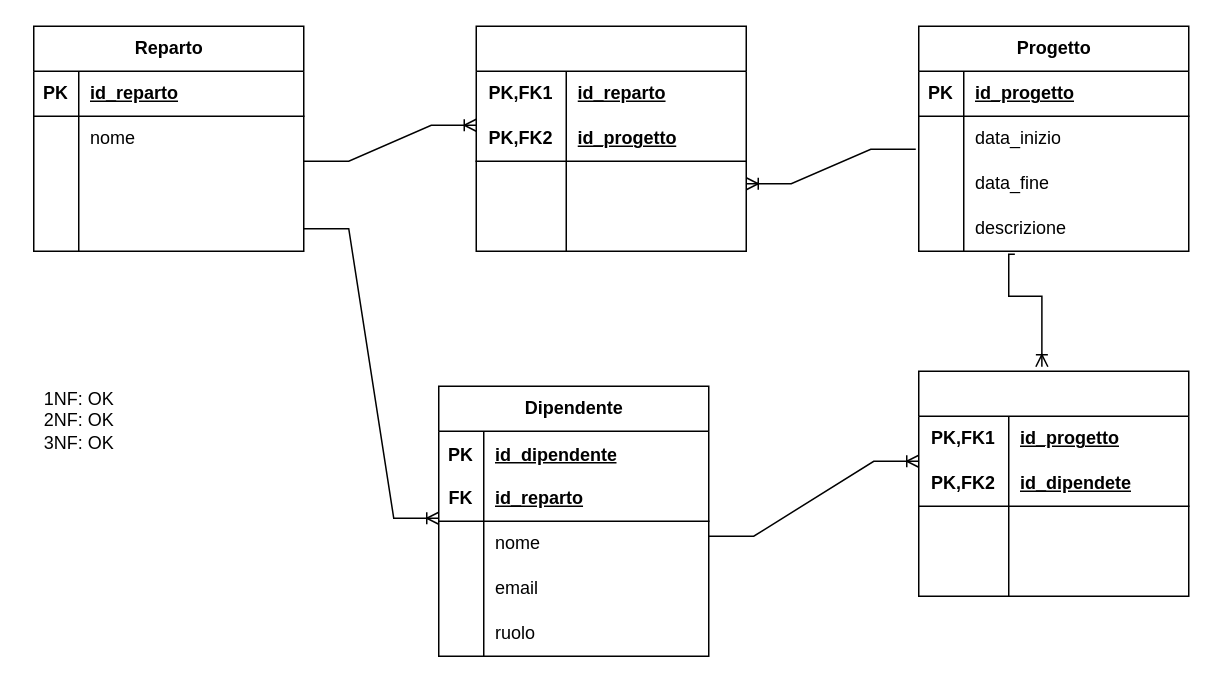
The diagram is 1215 pixels wide and 683 high, and some of its shapes have lost their labels. The shapes that lost their labels are listed below. From the top down, each one's box as (x1, y1, x2, y2) in pixels, then its label:
(475, 25, 746, 251): Reparto- Progetto
(917, 370, 1189, 596): Progetto-Dipendente
